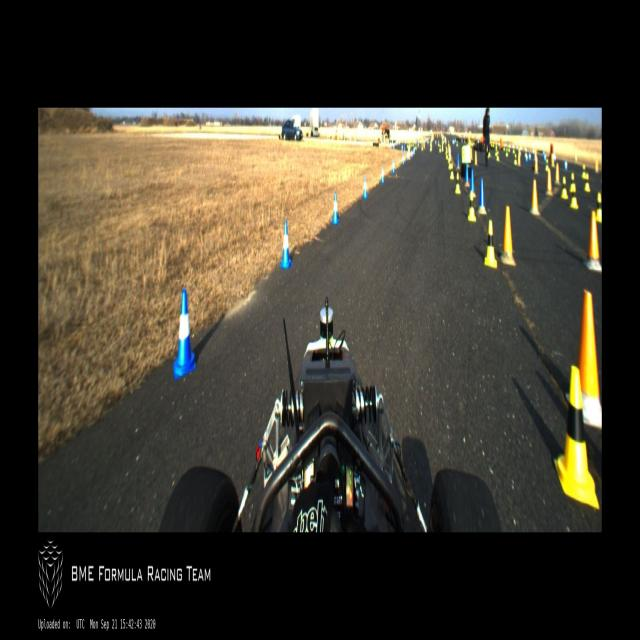blue_cone: (173, 290, 196, 378), (280, 222, 292, 268), (331, 192, 339, 224), (362, 176, 368, 198), (380, 165, 385, 182), (392, 158, 395, 174), (402, 152, 404, 165), (406, 151, 408, 160)
unknown_cone: (565, 288, 602, 428), (584, 210, 602, 272), (498, 206, 516, 266), (529, 180, 540, 216), (477, 177, 487, 215), (545, 169, 553, 196), (469, 168, 476, 198), (464, 163, 470, 186), (455, 152, 460, 168)
yellow_cone: (554, 366, 600, 510), (485, 220, 497, 268), (468, 191, 476, 221), (571, 184, 578, 208), (561, 176, 568, 199), (455, 172, 461, 192), (584, 172, 590, 191), (597, 194, 601, 221), (571, 174, 576, 192), (450, 162, 454, 180), (446, 149, 448, 160)
